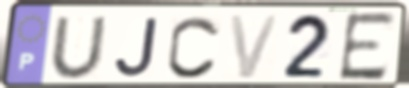2: (280, 10, 336, 84)
C: (165, 14, 223, 81)
E: (336, 10, 398, 84)
J: (112, 16, 161, 79)
U: (48, 14, 109, 81)
V: (227, 13, 283, 81)
